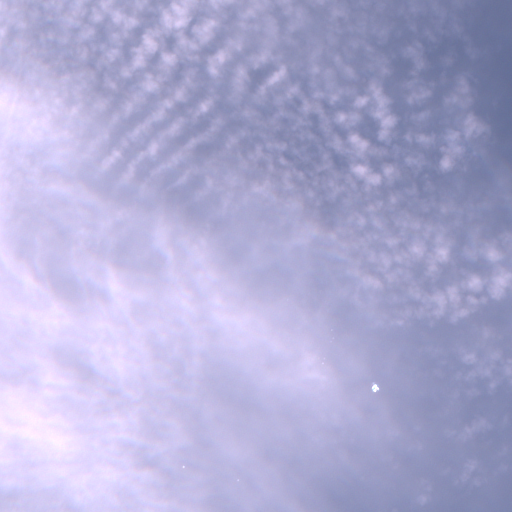Iceberg: (372, 384, 378, 391), (183, 466, 184, 467)
